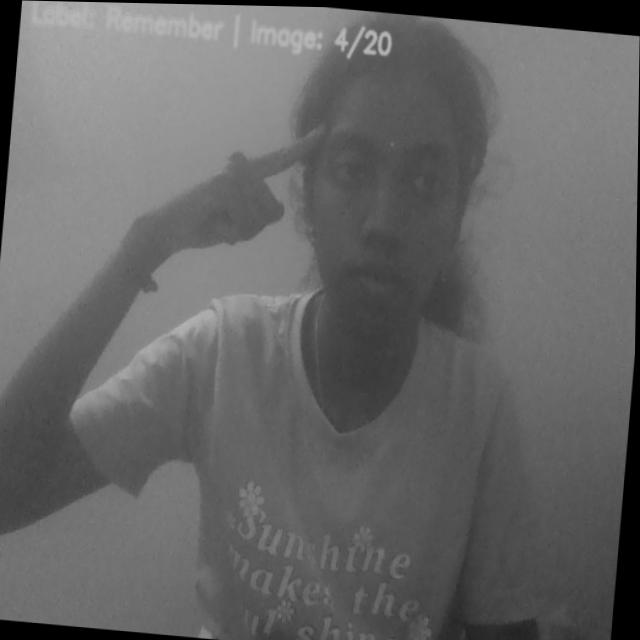Remember: (100, 96, 331, 281)
